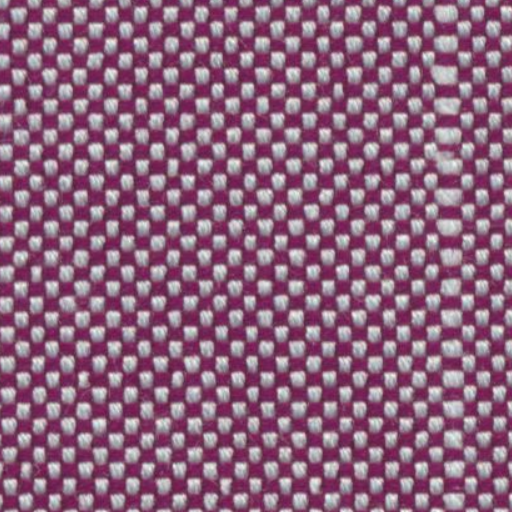DaiSha: (424, 6, 477, 504)
